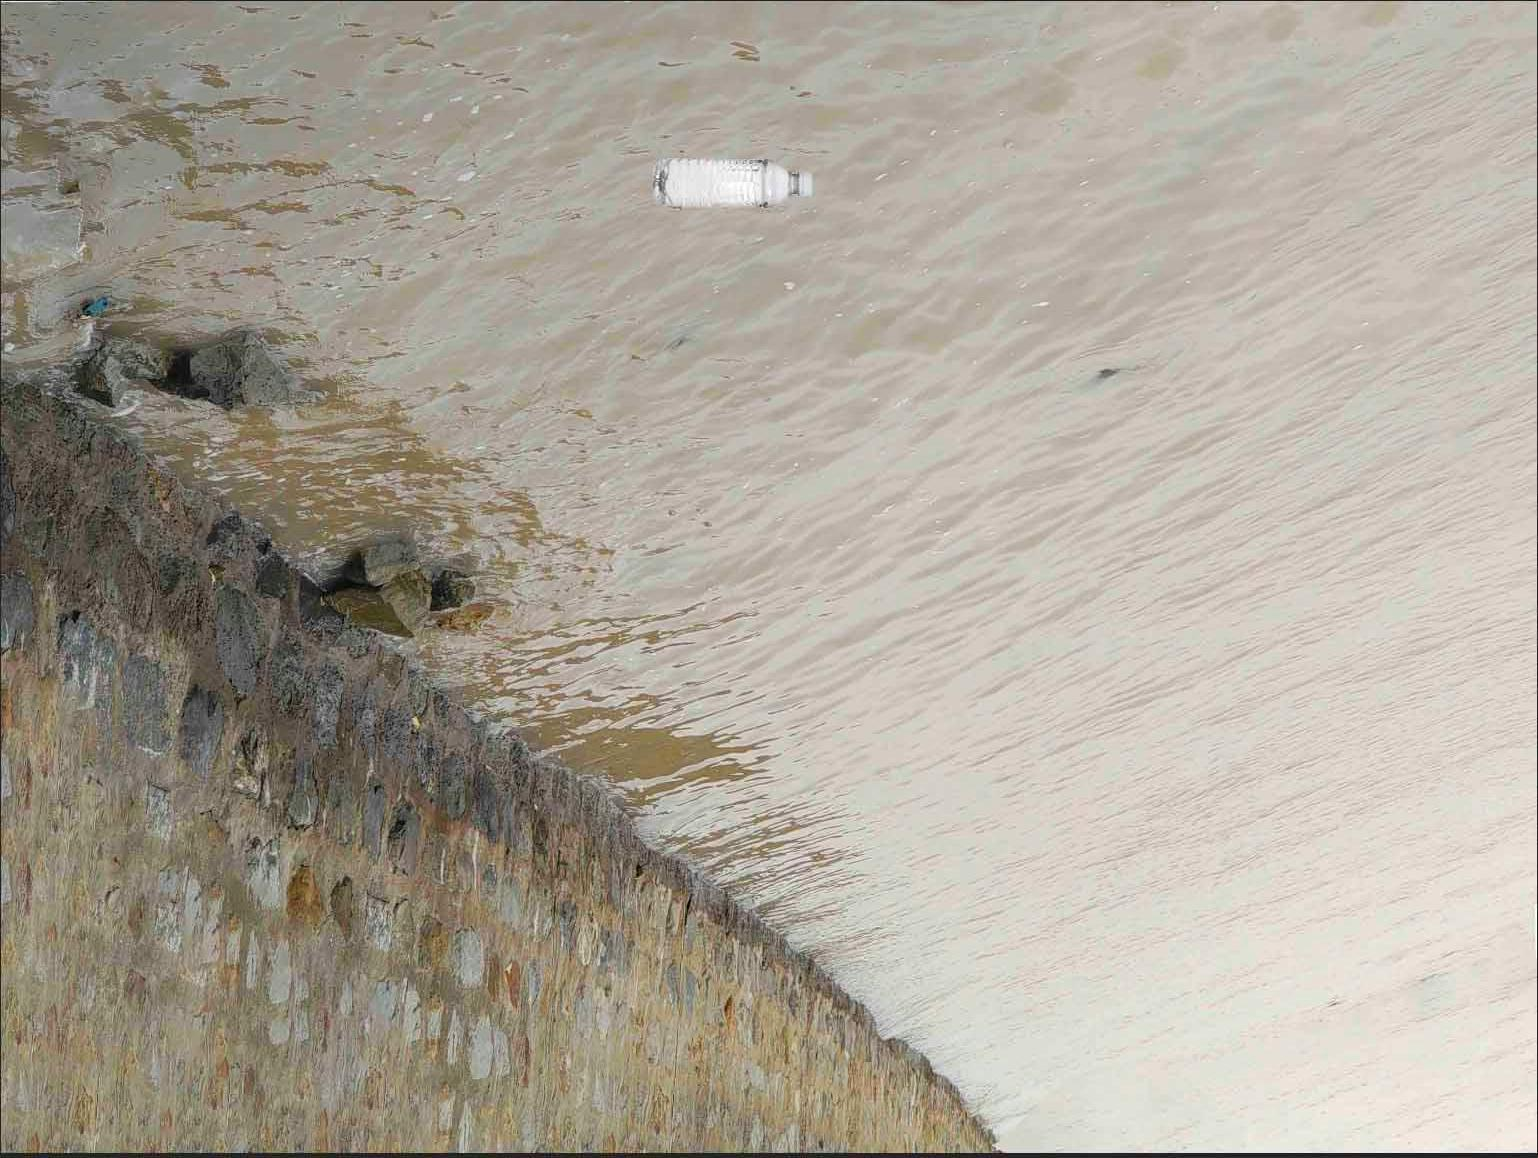Plastic: (653, 159, 816, 215)
